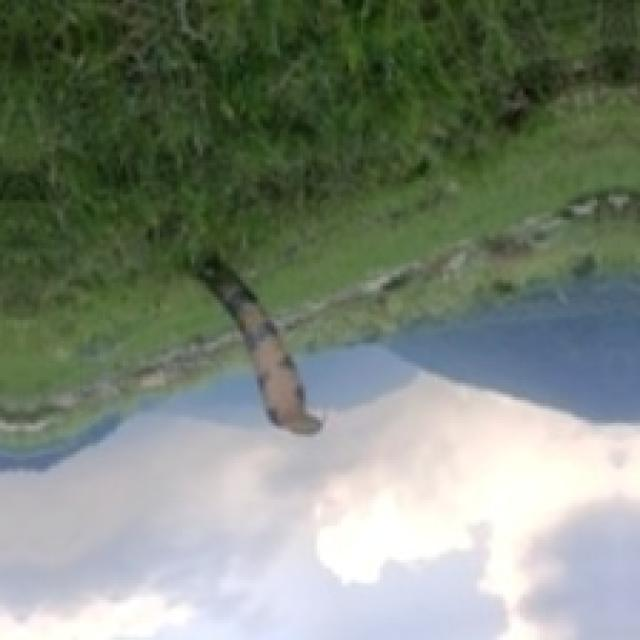king cobra: (194, 254, 320, 431)
